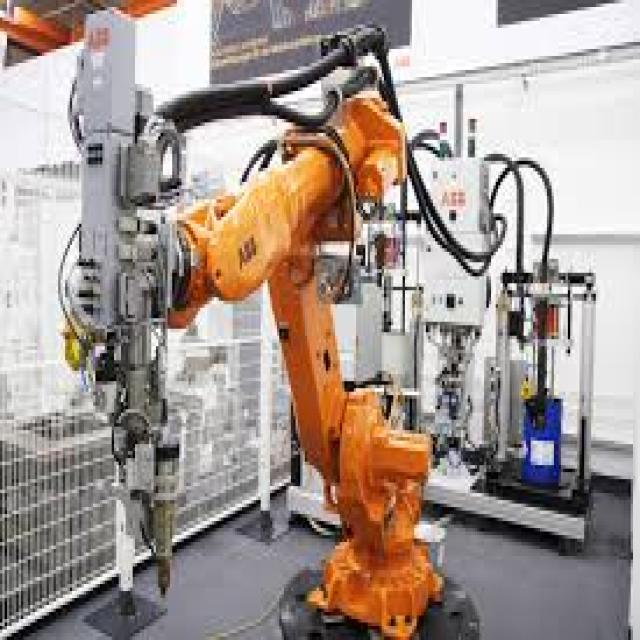Robotic-arm: (61, 1, 453, 638)
